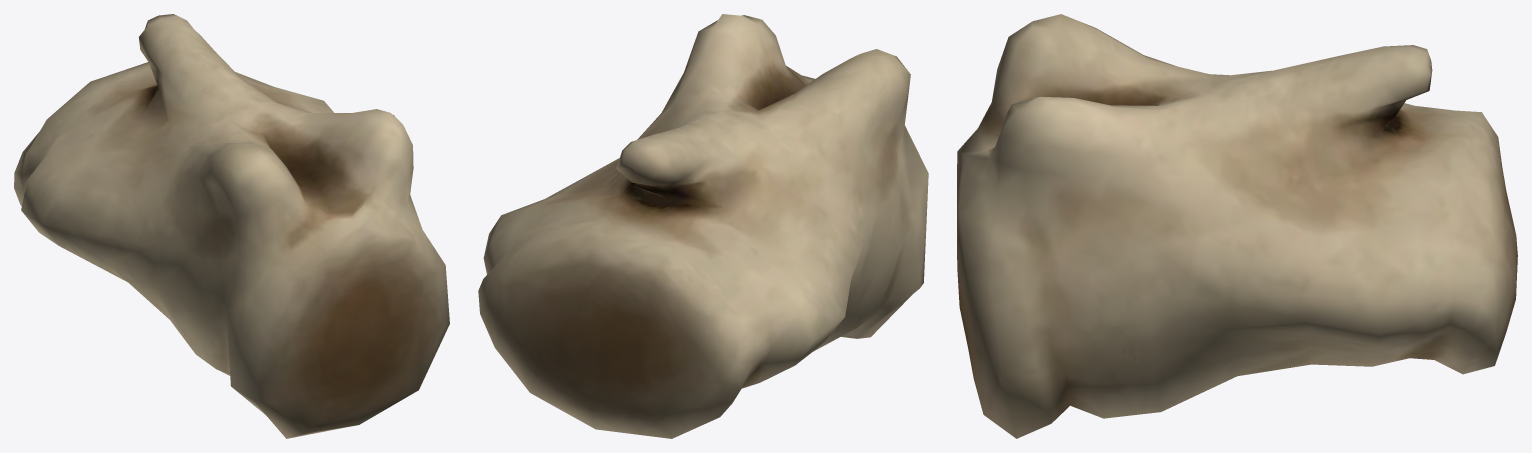
The model's file is Caudal_Vertebrae5.glb.
3 renders of one model, left to right at view 1: azimuth 30°, elevation 25°; view 2: azimuth 150°, elevation 25°; view 3: azimuth 270°, elevation 25°, orthographic. The views are drawn at different scales.
Visible parts, largest first — view 1: Caudal_Vertebrae_24:Group41560; view 2: Caudal_Vertebrae_24:Group41560; view 3: Caudal_Vertebrae_24:Group41560.
Boxes of the visible parts, left/top/right/bottom form: Caudal_Vertebrae_24:Group41560: left=14, top=14, right=449, bottom=438; Caudal_Vertebrae_24:Group41560: left=478, top=14, right=928, bottom=438; Caudal_Vertebrae_24:Group41560: left=957, top=14, right=1517, bottom=438.
Size of the model in its own units: 12.27 by 11.1 by 15.61.
1 material, 1 textured.
